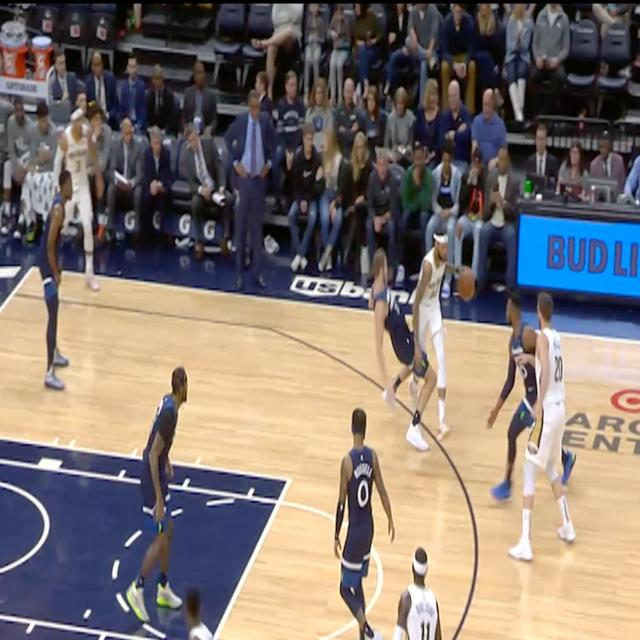Foul: (374, 266, 444, 390)
